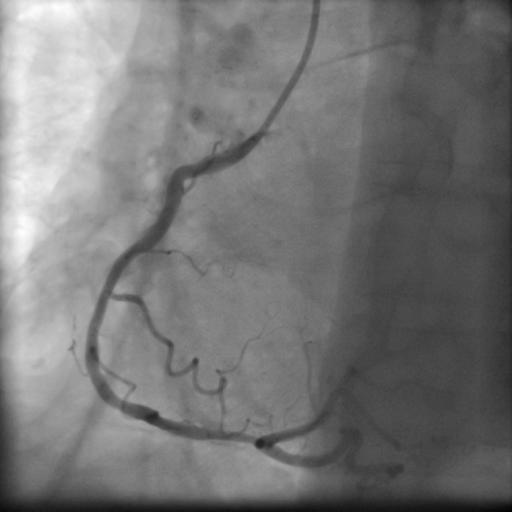Stenosis: (200, 419, 256, 455)
